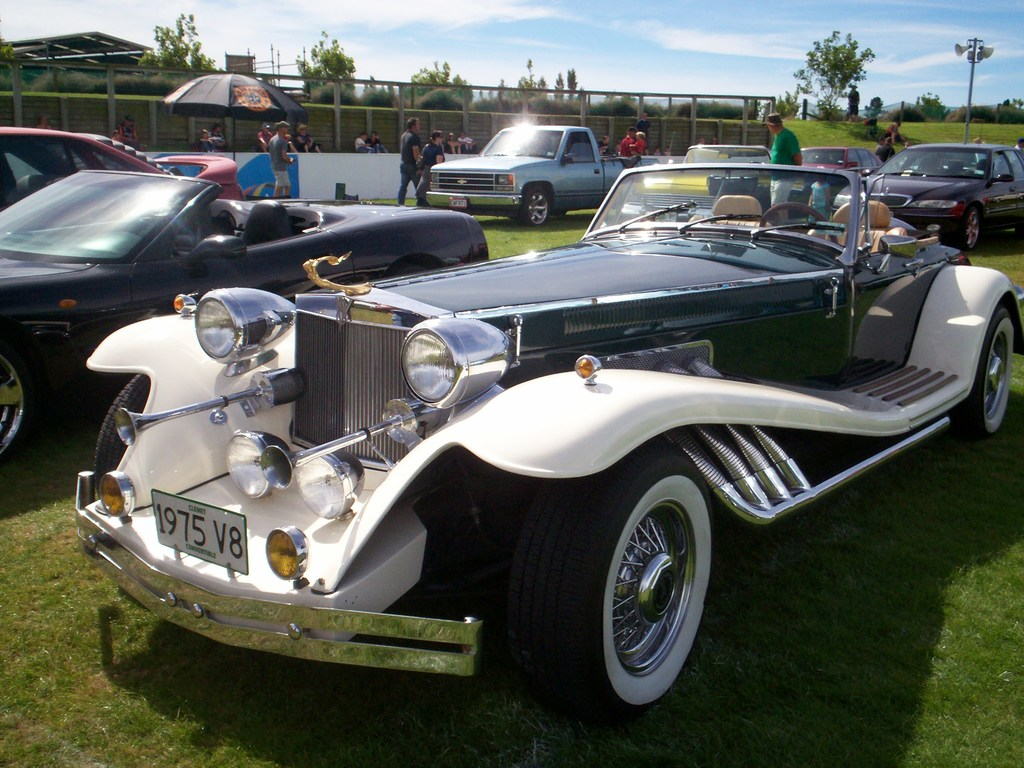Truck: (426, 125, 659, 227)
